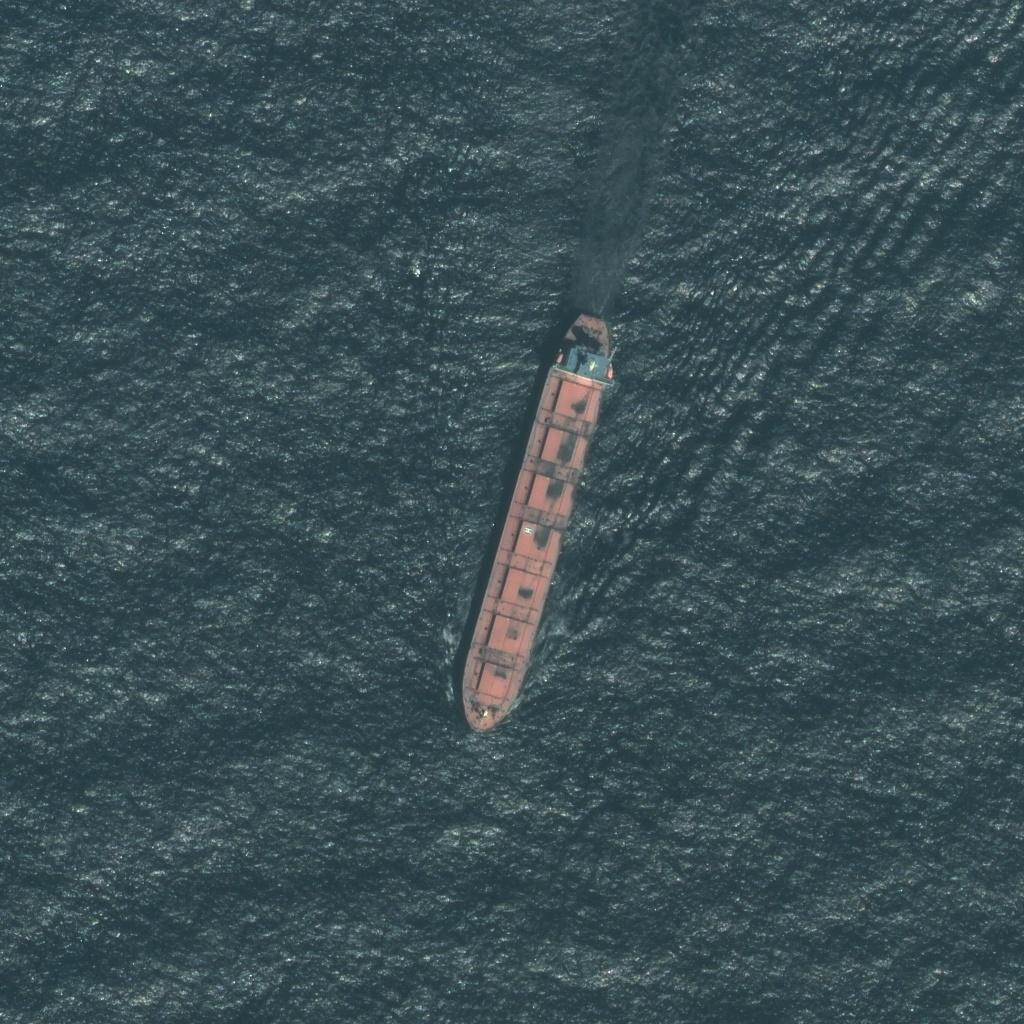ship: (457, 307, 620, 738)
